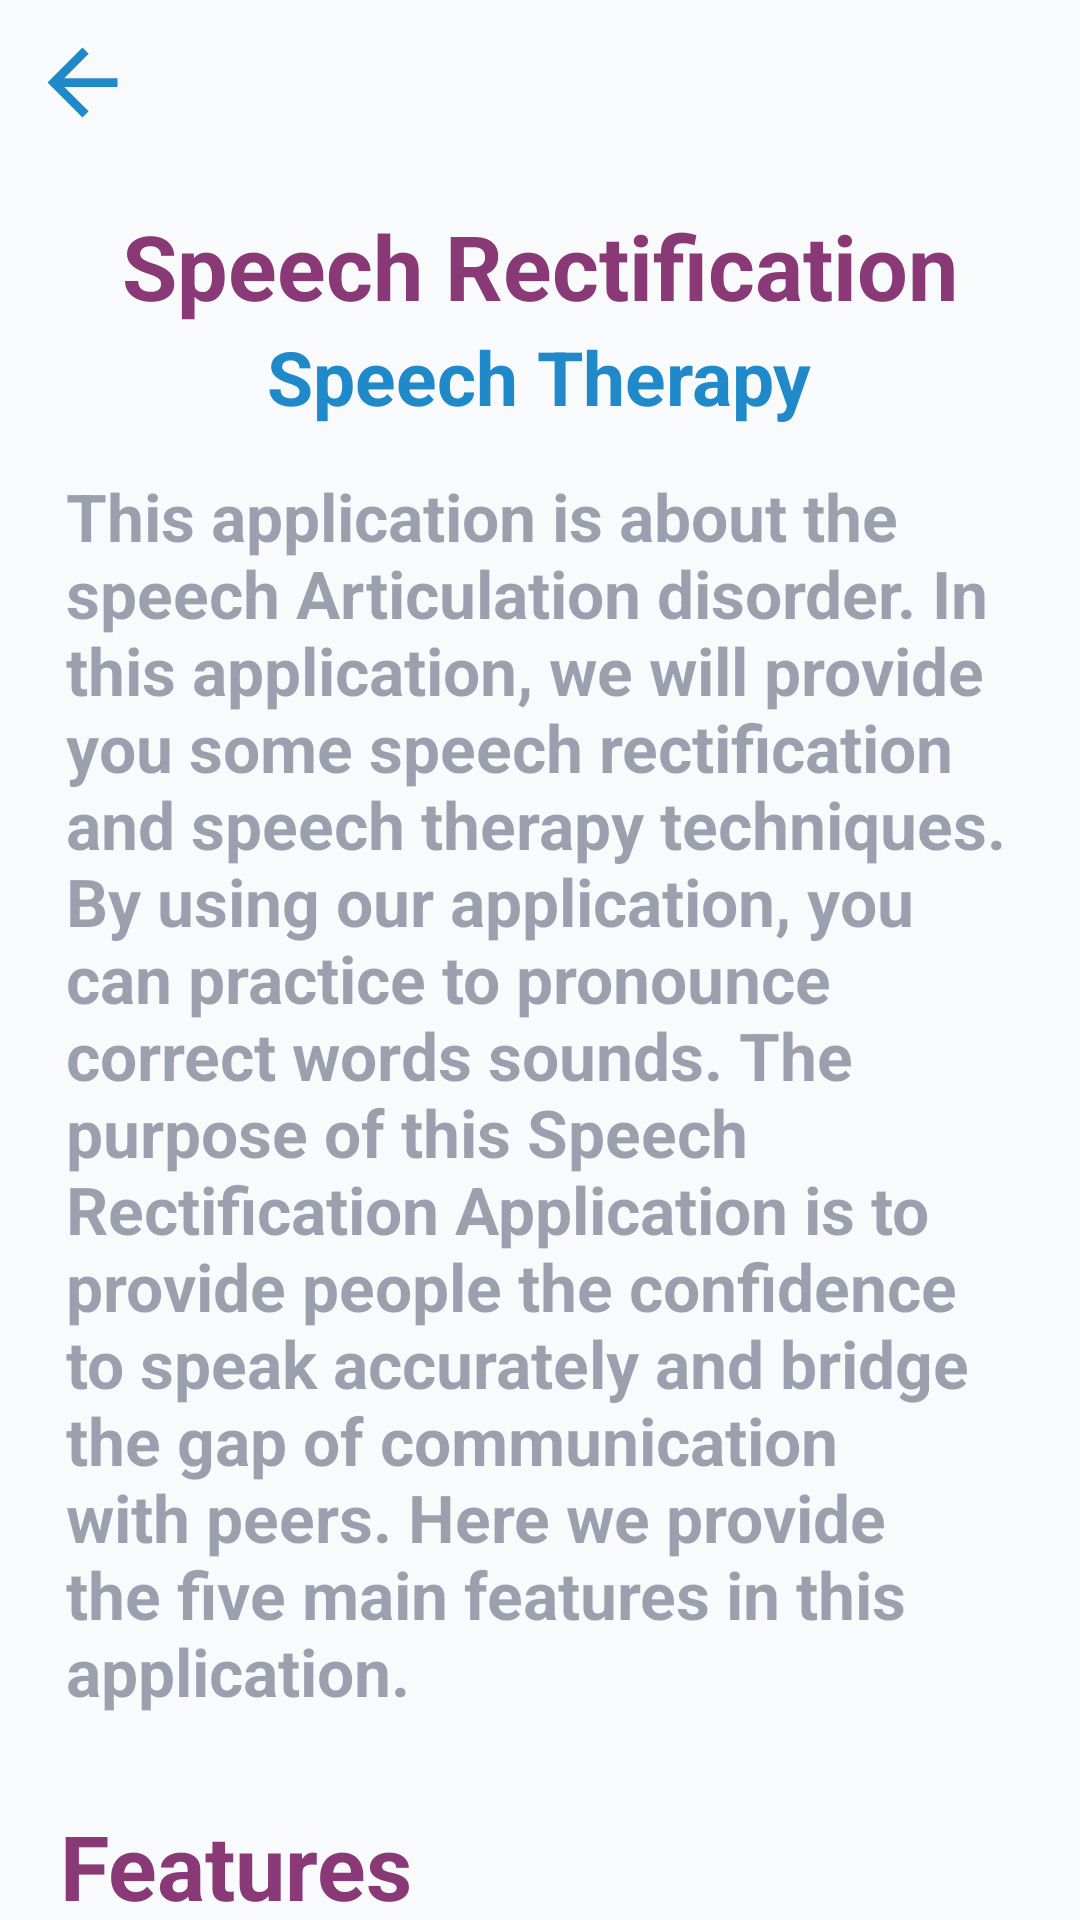

Icons on this 1080x1920 Android screen, each with its box as (x1=x1, y1=y1, x2=x2, y2=y2):
back arrow: (x1=47, y1=47, x2=118, y2=118)
